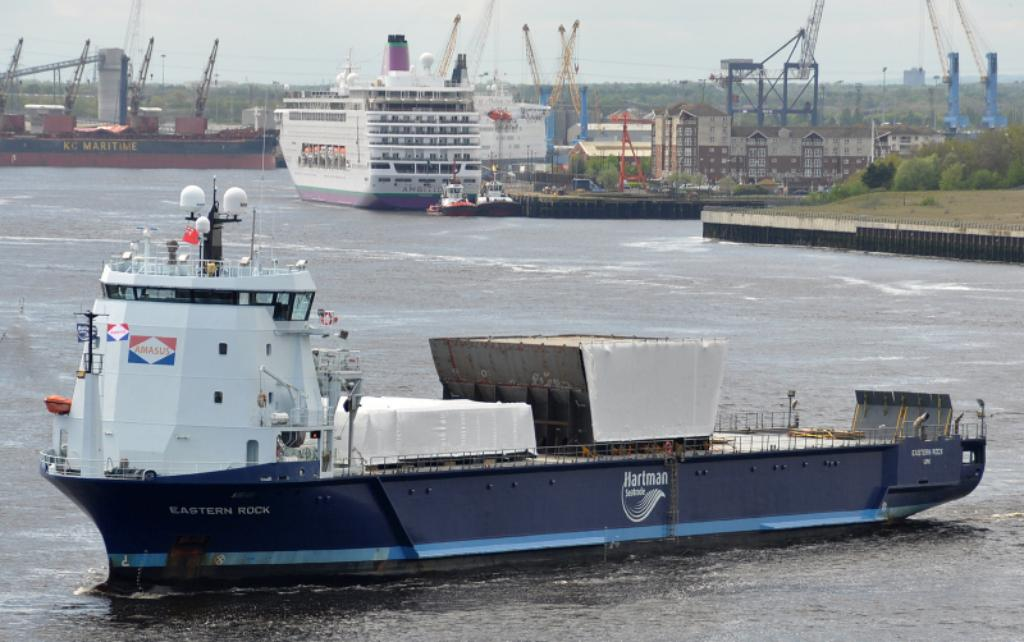PassengerShip: (253, 31, 489, 221)
